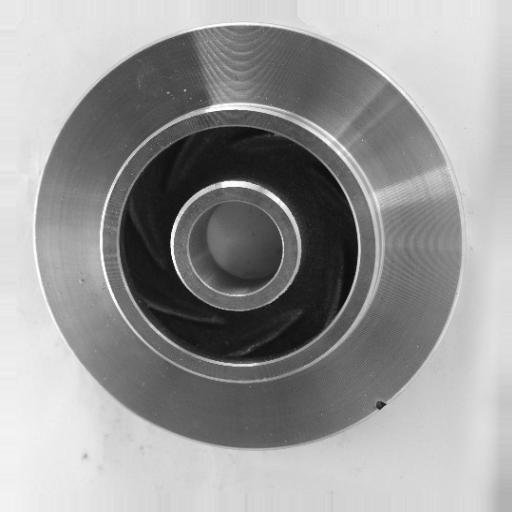crack: (365, 394, 396, 420)
unpolished_casting: (34, 23, 466, 457)
